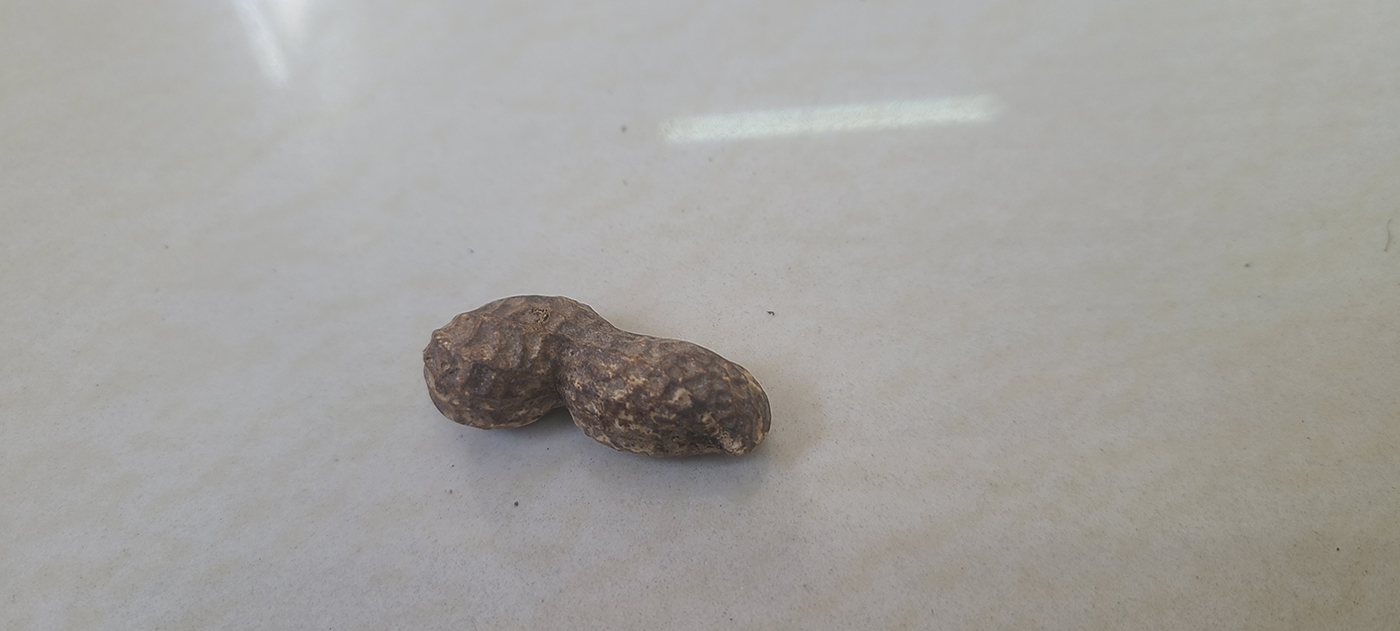l: (422, 292, 772, 461)
